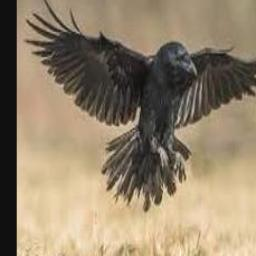Crow: (25, 0, 256, 210)
